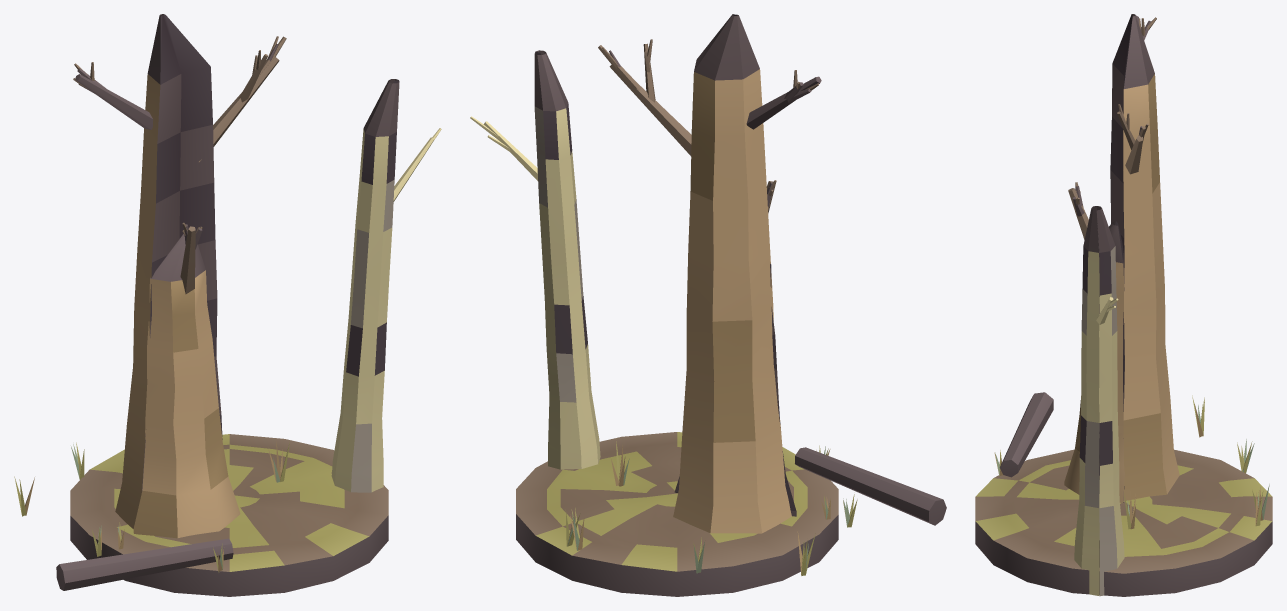
Rendered from nash_shattered_trees_v2.glb.
3 views of the same model, side by side, from view 1: azimuth 30°, elevation 25°; view 2: azimuth 150°, elevation 25°; view 3: azimuth 270°, elevation 25° (orthographic). The views are drawn at different scales.
Parts seen in each view (by area): view 1: Body; view 2: Body; view 3: Body.
Boxes of the visible parts, x1=… form: Body: x1=14, y1=14, x2=441, y2=596; Body: x1=470, y1=14, x2=946, y2=596; Body: x1=975, y1=14, x2=1272, y2=596.
Bounding box in the file's own units: 0.5571 × 0.66 × 0.3628.
